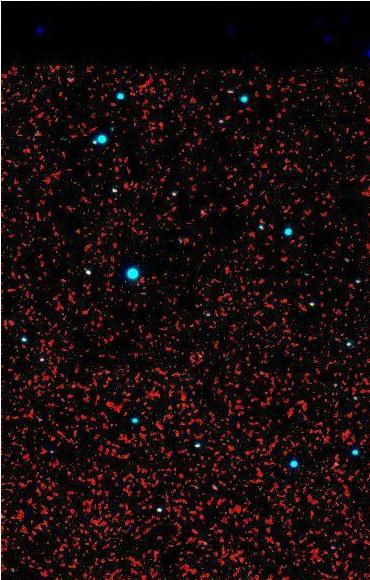star: (184, 342, 214, 372)
